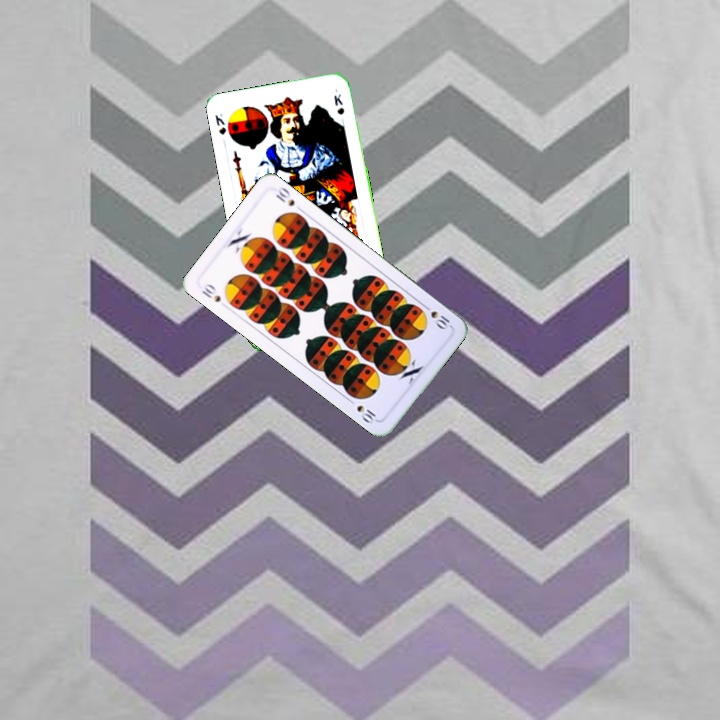S10: (419, 300, 453, 332), (197, 279, 224, 305)
SK: (211, 109, 229, 137)
